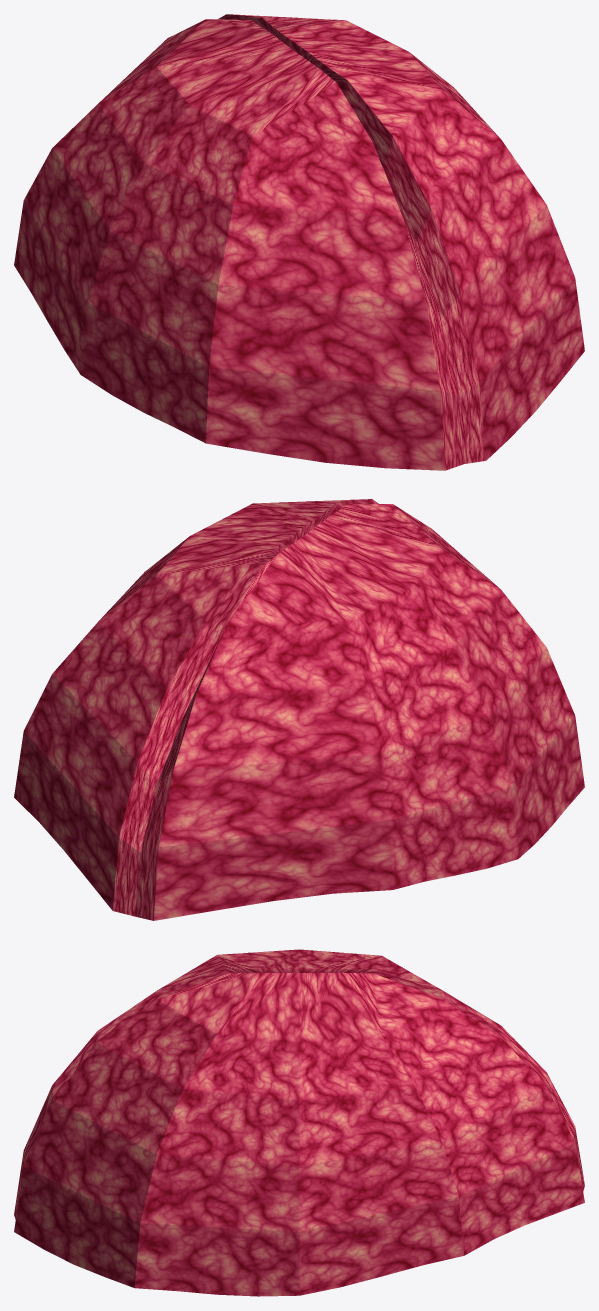
File: brain.fbx
The picture shows the model from 3 angles, top to bottom: view 1: azimuth 30°, elevation 25°; view 2: azimuth 150°, elevation 25°; view 3: azimuth 270°, elevation 25°; orthographic projection. The views are drawn at different scales.
Parts seen in each view (by area): view 1: pSphere1; view 2: pSphere1; view 3: pSphere1.
Part boxes in pixels (left/top/right/bottom): pSphere1: left=14, top=14, right=584, bottom=470; pSphere1: left=14, top=499, right=584, bottom=920; pSphere1: left=14, top=949, right=584, bottom=1296.
Size of the model in its own units: 1.68 by 1.08 by 2.21.
Materials: 1 (1 with a texture image).
